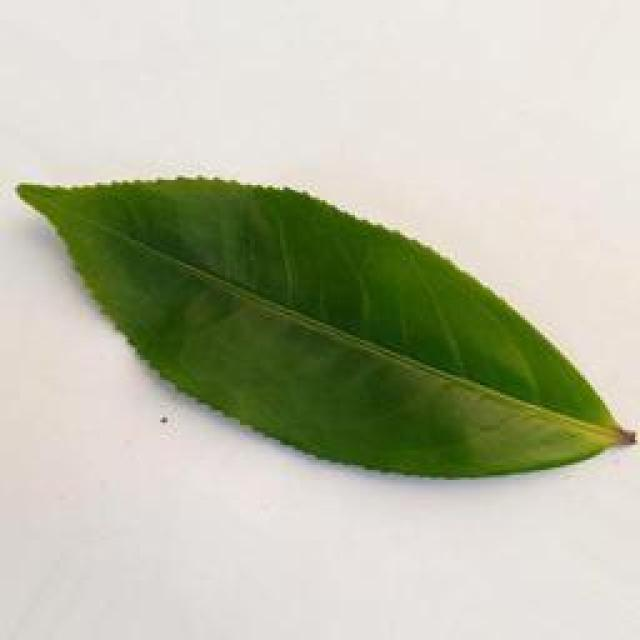Healthy: (10, 158, 637, 478)
